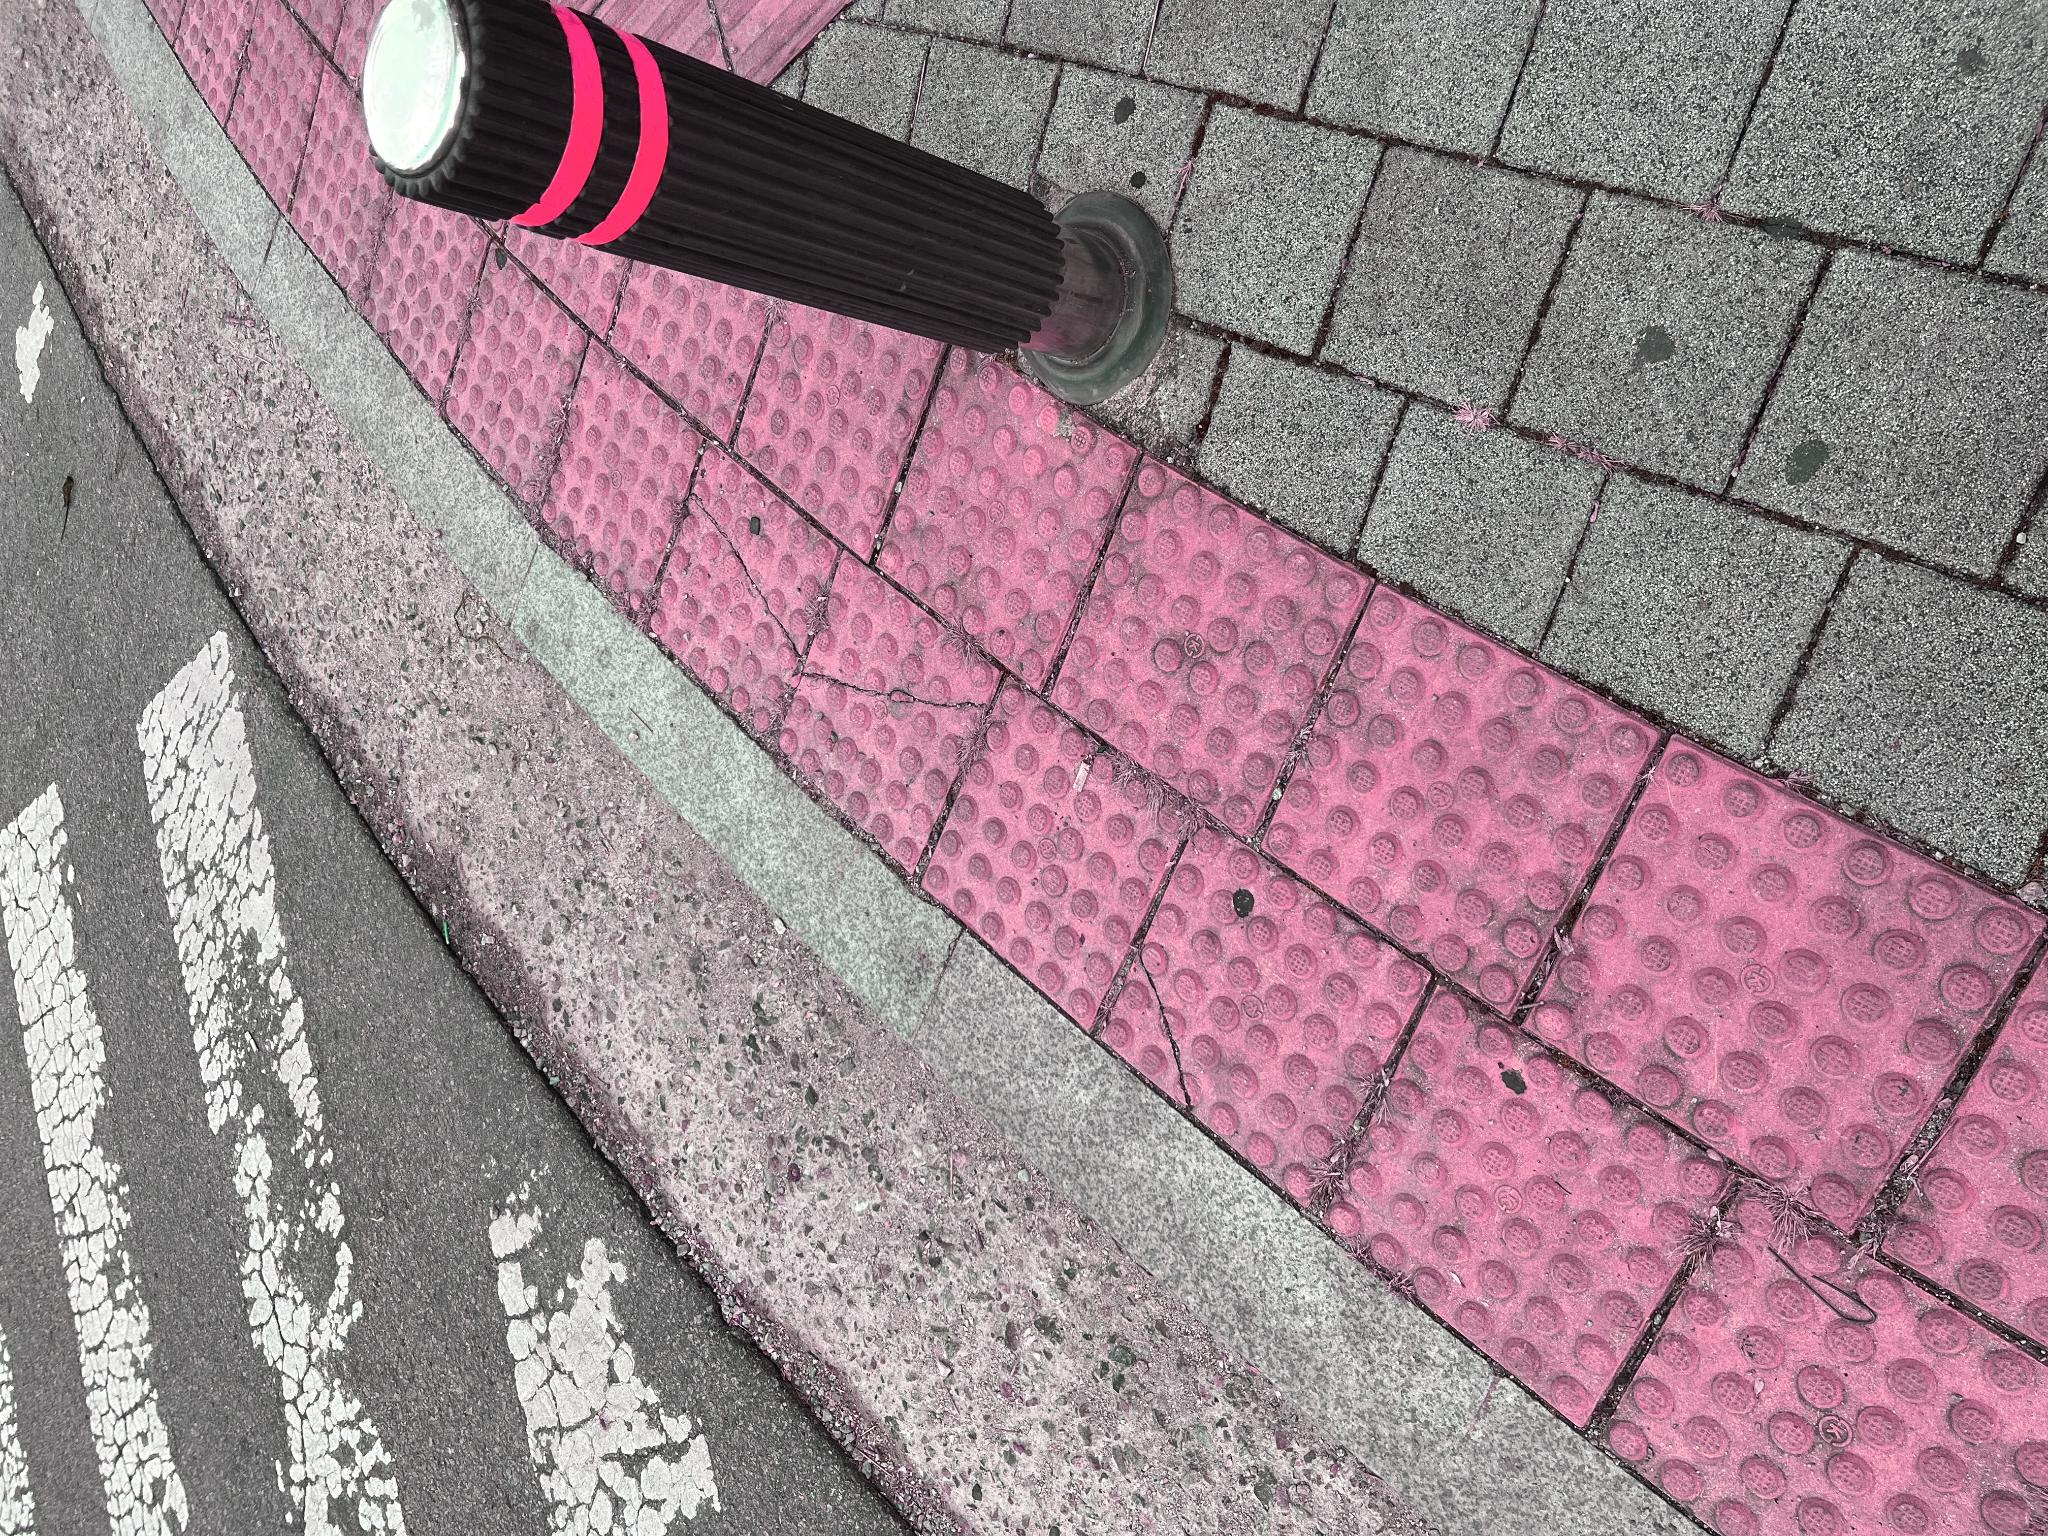Stop block broken: (669, 776, 985, 997), (793, 644, 1095, 839)
Stop block normal: (701, 1052, 1079, 1368)
